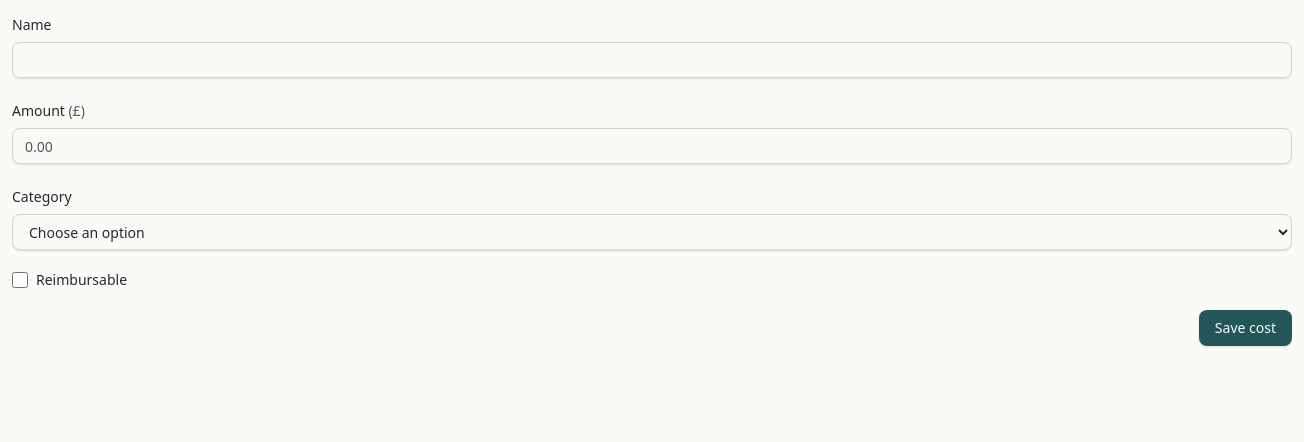
Test: EntityForm › shows zod validation messages and does not submit invalid values
Type "not-money" into the field labelled "Amount (£)" at coordinates (652, 146), box [12, 128, 1292, 164]
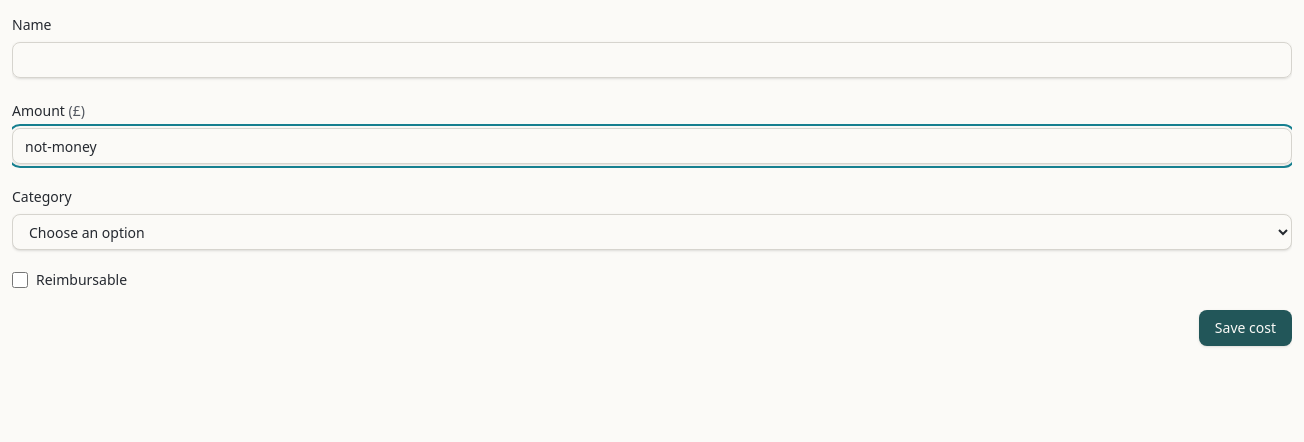
Click the button "Save cost" at coordinates (1245, 328), box [1199, 310, 1292, 346]
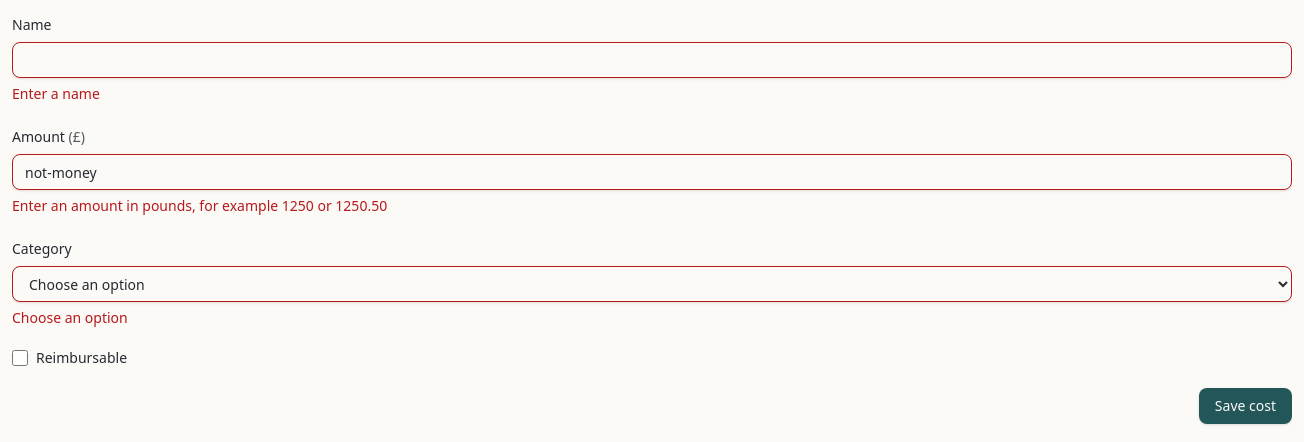
Expected: the text "Enter a name" is shown, [12, 84, 100, 103]
Expected: the text "Enter an amount in pounds, for example 1250 or 1250.50" is shown, [12, 196, 387, 215]
